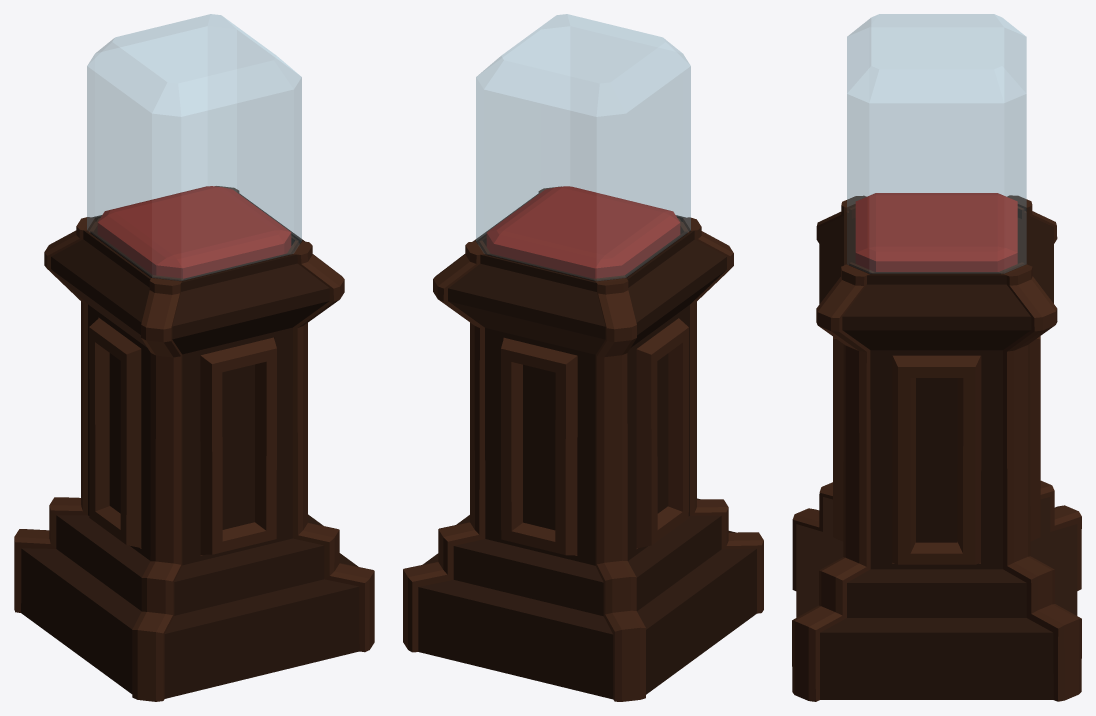
Rendered from Подставка под артефакт.fbx.
3 views of the same model, side by side, from view 1: azimuth 30°, elevation 25°; view 2: azimuth 150°, elevation 25°; view 3: azimuth 270°, elevation 25° (orthographic). The views are drawn at different scales.
Parts seen in each view (by area): view 1: Подставка, Крышка; view 2: Подставка, Крышка; view 3: Подставка, Крышка.
Part boxes in pixels (x1,y1,x2,y2): Подставка: (14, 186, 374, 701); Крышка: (87, 14, 301, 280); Подставка: (403, 186, 763, 701); Крышка: (476, 14, 690, 280); Подставка: (792, 193, 1081, 701); Крышка: (847, 14, 1026, 273).
Bounding box in the file's own units: 461 × 1050 × 460.
